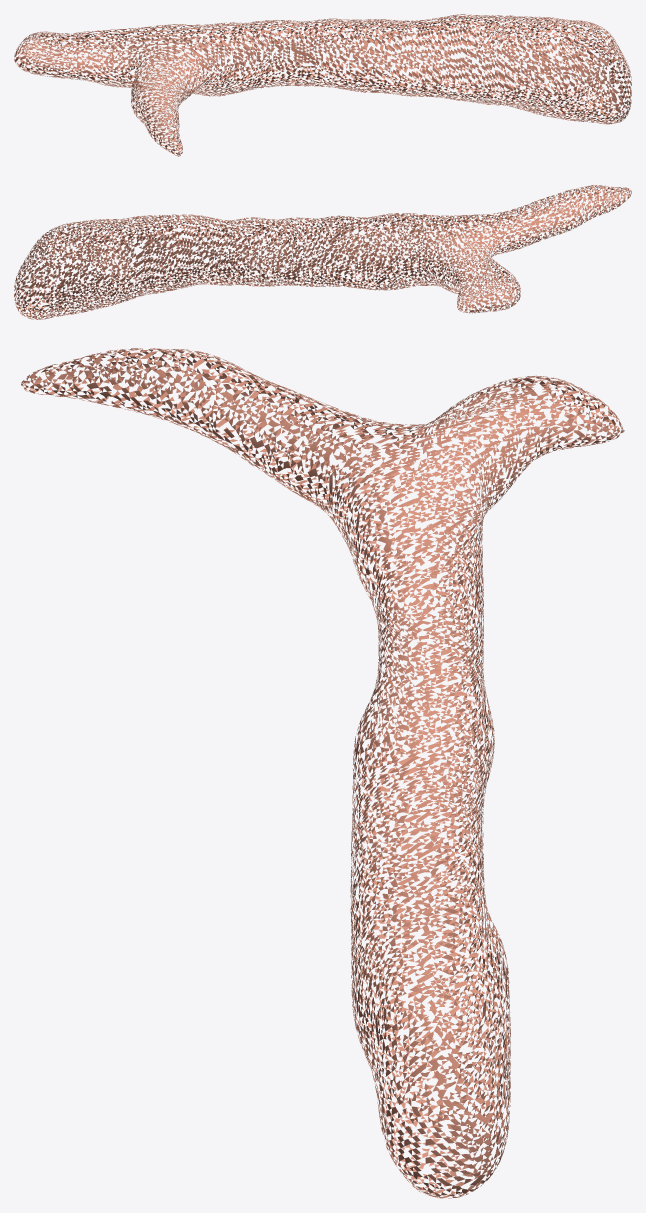
File: morph_003.glb
The picture shows the model from 3 angles, top to bottom: view 1: azimuth 30°, elevation 25°; view 2: azimuth 150°, elevation 25°; view 3: azimuth 270°, elevation 25°; orthographic projection. The views are drawn at different scales.
Bounding box in the file's own units: 133 × 47.23 × 67.13.
